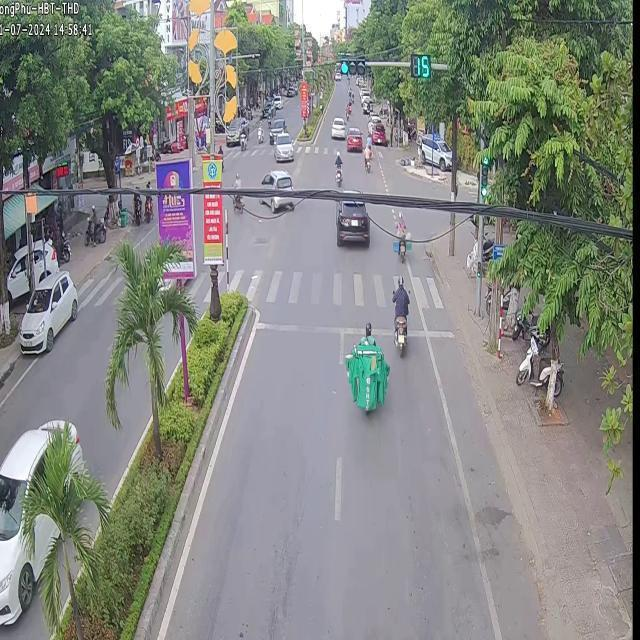car: (334, 198, 368, 245), (259, 169, 290, 188), (272, 131, 292, 160), (344, 125, 360, 149), (268, 196, 292, 209), (329, 116, 343, 138)
green_light: (338, 54, 364, 74), (478, 156, 487, 199)
motobike: (343, 320, 388, 409), (390, 274, 408, 356), (392, 209, 409, 260), (333, 149, 340, 185), (362, 142, 369, 171)
stop_line: (254, 320, 391, 333), (406, 327, 453, 336)
